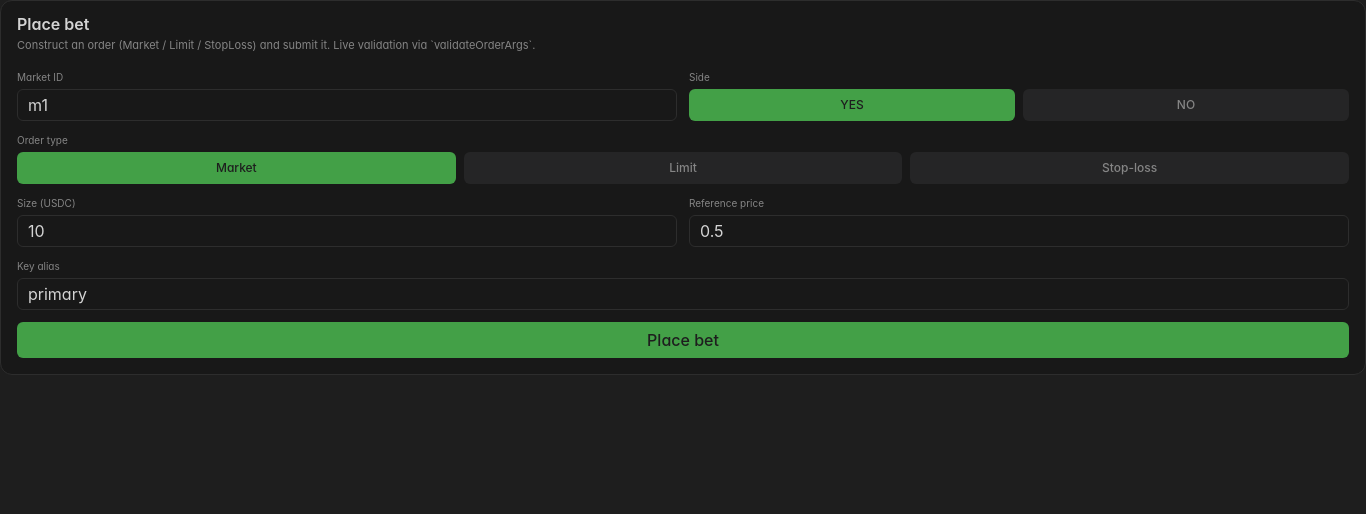
it: PlaceBetForm (v0.58b) › order type toggle: limit shows limit_price + post_only
Click the button with test id "place-bet-order-type-limit" at [683, 168], box [464, 152, 902, 184]
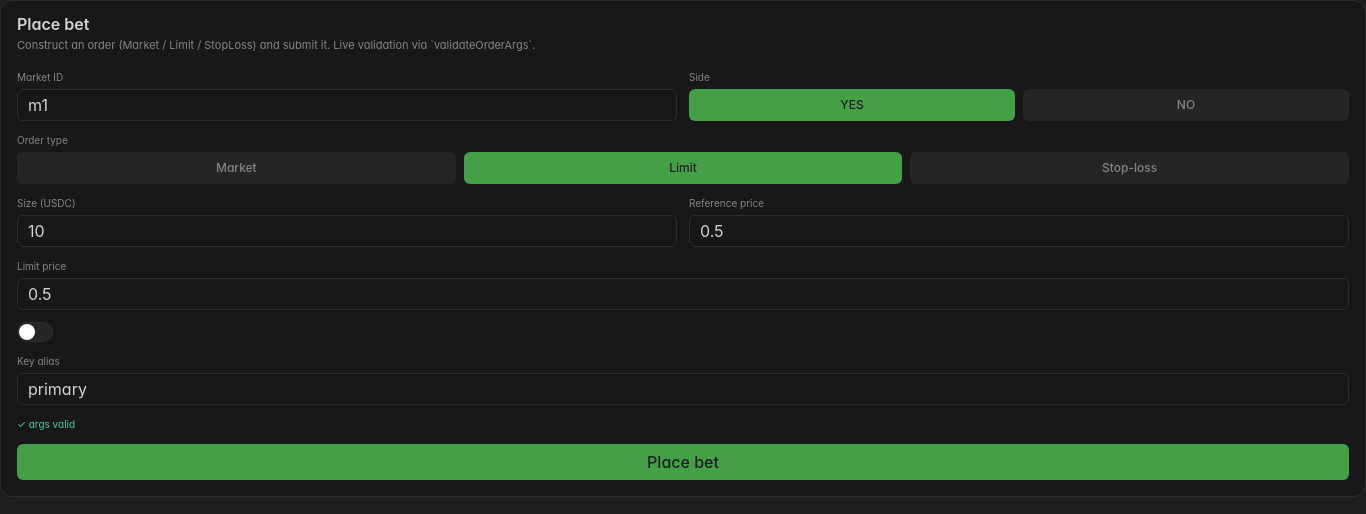
Expected: the field with test id "place-bet-limit-price" is shown, [17, 278, 1349, 310]
Expected: the switch with test id "place-bet-post-only" is shown, [17, 322, 53, 342]
